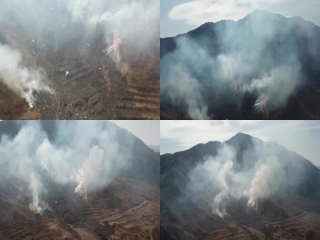smoke: (169, 41, 296, 116), (8, 129, 120, 208), (198, 150, 291, 214), (80, 4, 155, 75), (1, 47, 52, 106)
